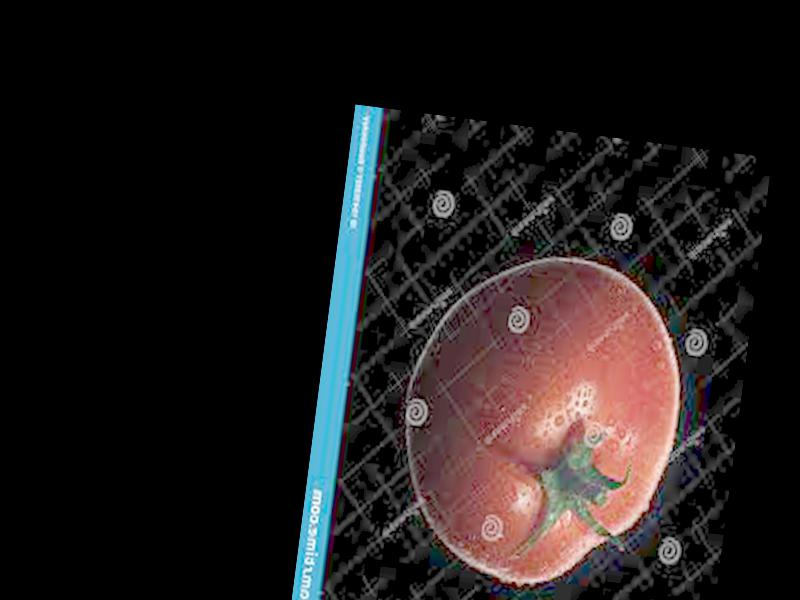Tomato: (388, 238, 696, 600)
